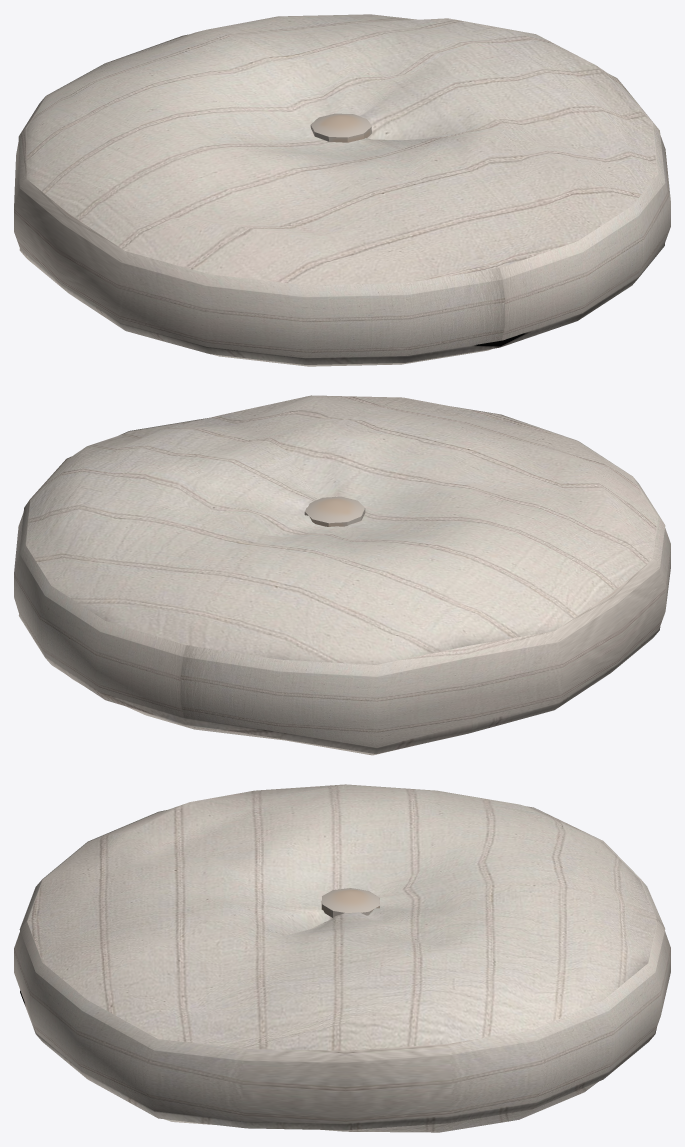
Rendered from pillow4.fbx.
The picture shows the model from 3 angles, top to bottom: view 1: azimuth 30°, elevation 25°; view 2: azimuth 150°, elevation 25°; view 3: azimuth 270°, elevation 25°; orthographic projection.
Parts seen in each view (by area): view 1: pCylinder4; view 2: pCylinder4; view 3: pCylinder4.
Boxes of the visible parts, bbox=[...] form: pCylinder4: bbox=[14, 14, 670, 366]; pCylinder4: bbox=[14, 395, 670, 755]; pCylinder4: bbox=[14, 784, 670, 1132].
Bounding box in the file's own units: 16.54 × 4.94 × 16.6.
